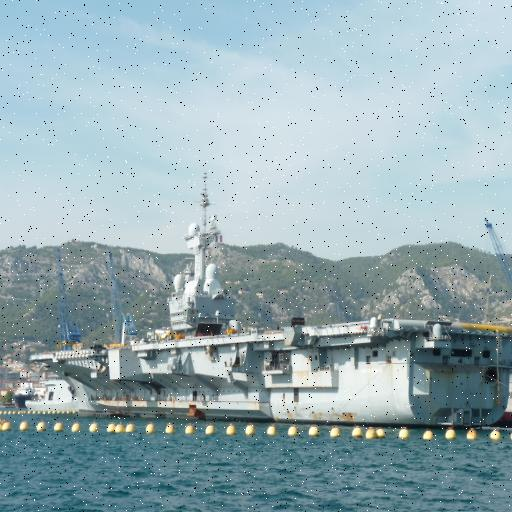Portanaves: (24, 161, 512, 426)
